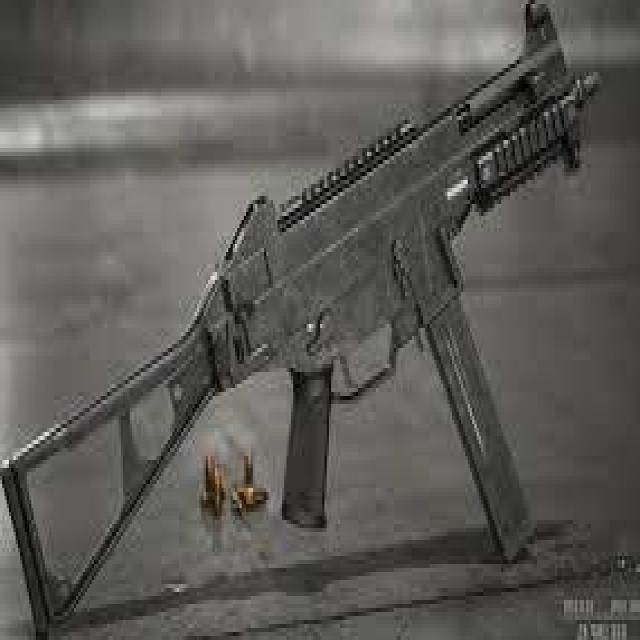Gun: (121, 0, 613, 580)
